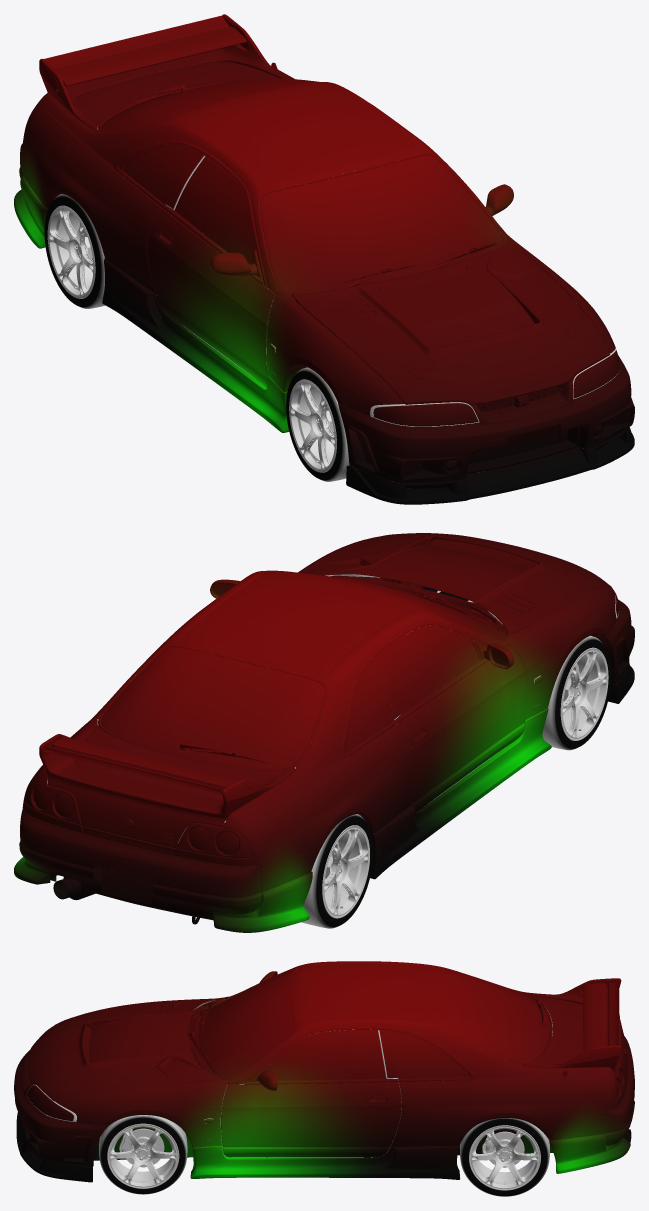
Rendered from Skyline-GTR-R33.glb.
3 views of the same model, one above another, from view 1: azimuth 30°, elevation 25°; view 2: azimuth 150°, elevation 25°; view 3: azimuth 270°, elevation 25° (orthographic). The views are drawn at different scales.
Visible parts, largest first — view 1: body_a_LODS0 carPaint, hood_b_LODS0 carPaint, glassF_a_LODS0 Glass_Windshield, bumperF_c_LODS0 carPaint, doorRF_a_LODS0 carPaint, fenders_a_LODS0 carPaint, skirtL_b_LODS0|AndOthers carPaint, bumperFCustom_c_LODS0 carPaint, wing_c_LODS0 Material__27, glassRF_a_LODS0 Glass_Windshield, trunk_a_LODS0 carPaint, wing_c_LODS0 carPaint (+15 smaller); view 2: body_a_LODS0 carPaint, glassR_a_LODS0 Glass_Windshield, hood_b_LODS0 carPaint, bumperR_a_LODS0 carPaint, doorRF_a_LODS0 carPaint, trunk_a_LODS0 carPaint, skirtL_b_LODS0|AndOthers carPaint, fenders_a_LODS0 carPaint, wing_c_LODS0 carPaint, glassRF_a_LODS0 Glass_Windshield, bumperRCustom_b_LODS0 carPaint, wing_c_LODS0 Material__27 (+25 smaller); view 3: body_a_LODS0 carPaint, doorLF_a_LODS0 carPaint, hood_b_LODS0 carPaint, skirtL_b_LODS0|AndOthers carPaint, fenders_a_LODS0 carPaint, glassF_a_LODS0 Glass_Windshield, glassR_a_LODS0 Glass_Windshield, glassLF_a_LODS0 Glass_Windshield, bumperF_c_LODS0 carPaint, trunk_a_LODS0 carPaint, wing_c_LODS0 Material__27, glassLR_a_LODS0 Glass_Windshield (+24 smaller).
Part boxes in pixels (x1,y1,x2,y2): body_a_LODS0 carPaint: [22, 65, 507, 294]; hood_b_LODS0 carPaint: [291, 241, 609, 404]; glassF_a_LODS0 Glass_Windshield: [261, 155, 502, 292]; bumperF_c_LODS0 carPaint: [338, 355, 634, 482]; doorRF_a_LODS0 carPaint: [147, 208, 275, 387]; fenders_a_LODS0 carPaint: [266, 233, 615, 416]; skirtL_b_LODS0|AndOthers carPaint: [102, 258, 289, 432]; bumperFCustom_c_LODS0 carPaint: [346, 427, 634, 504]; wing_c_LODS0 Material__27: [43, 15, 247, 86]; glassRF_a_LODS0 Glass_Windshield: [174, 156, 255, 264]; trunk_a_LODS0 carPaint: [75, 61, 279, 126]; wing_c_LODS0 carPaint: [39, 14, 290, 129]; body_a_LODS0 carPaint: [22, 570, 508, 892]; glassR_a_LODS0 Glass_Windshield: [101, 647, 325, 769]; hood_b_LODS0 carPaint: [303, 533, 609, 634]; bumperR_a_LODS0 carPaint: [19, 808, 261, 920]; doorRF_a_LODS0 carPaint: [396, 644, 528, 811]; trunk_a_LODS0 carPaint: [48, 724, 284, 847]; skirtL_b_LODS0|AndOthers carPaint: [370, 709, 551, 879]; fenders_a_LODS0 carPaint: [298, 536, 616, 720]; wing_c_LODS0 carPaint: [39, 720, 294, 822]; glassRF_a_LODS0 Glass_Windshield: [381, 625, 480, 714]; bumperRCustom_b_LODS0 carPaint: [14, 857, 312, 932]; wing_c_LODS0 Material__27: [43, 737, 240, 793]; body_a_LODS0 carPaint: [224, 961, 627, 1146]; doorLF_a_LODS0 carPaint: [221, 1082, 401, 1157]; hood_b_LODS0 carPaint: [28, 998, 216, 1101]; skirtL_b_LODS0|AndOthers carPaint: [190, 1145, 460, 1179]; fenders_a_LODS0 carPaint: [55, 996, 229, 1147]; glassF_a_LODS0 Glass_Windshield: [198, 968, 295, 1079]; glassR_a_LODS0 Glass_Windshield: [448, 970, 549, 1063]; glassLF_a_LODS0 Glass_Windshield: [255, 1029, 386, 1080]; bumperF_c_LODS0 carPaint: [14, 1050, 108, 1166]; trunk_a_LODS0 carPaint: [531, 995, 626, 1078]; wing_c_LODS0 Material__27: [583, 979, 619, 1051]; glassLR_a_LODS0 Glass_Windshield: [388, 1030, 464, 1078].
Size of the model in its own units: 1.97 by 1.33 by 4.67.
